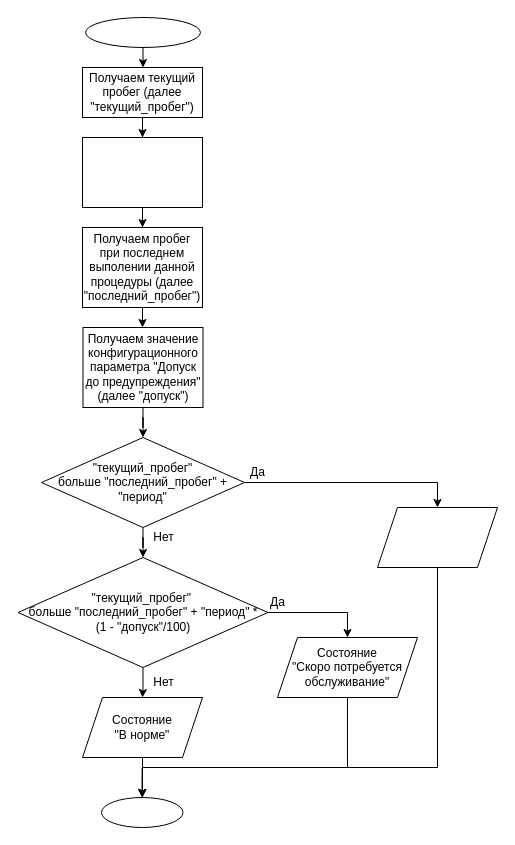
The diagram is 515 pixels wide and 845 high, and some of its shapes have lost their labels. The centre of each missing label's shape, as x and y in pixels:
Конец: point (141, 812)
Начало: point (142, 32)
Получаем периодичность в км данной процедуры (далее "период"): point (142, 172)
Состояние "Необходимо обслуживание": point (437, 537)
